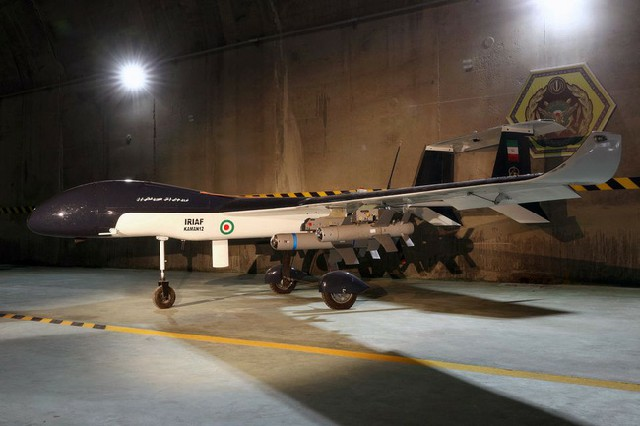maybay_khongnguoilai: (26, 140, 628, 294)
